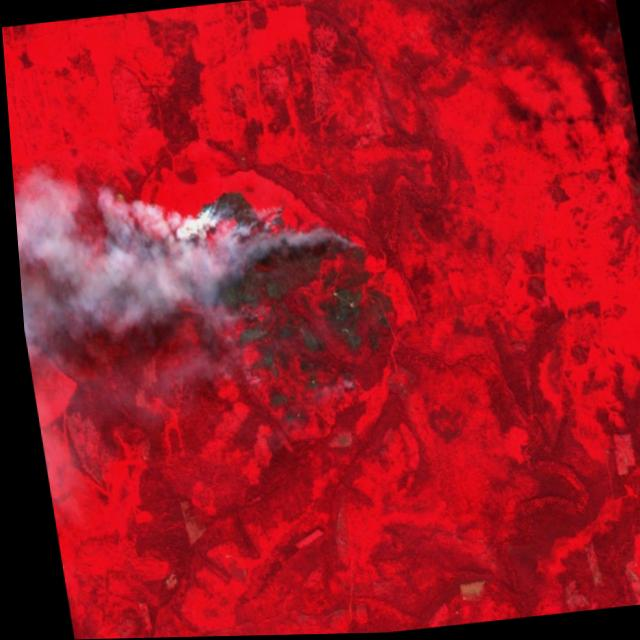fire: (157, 171, 391, 411)
